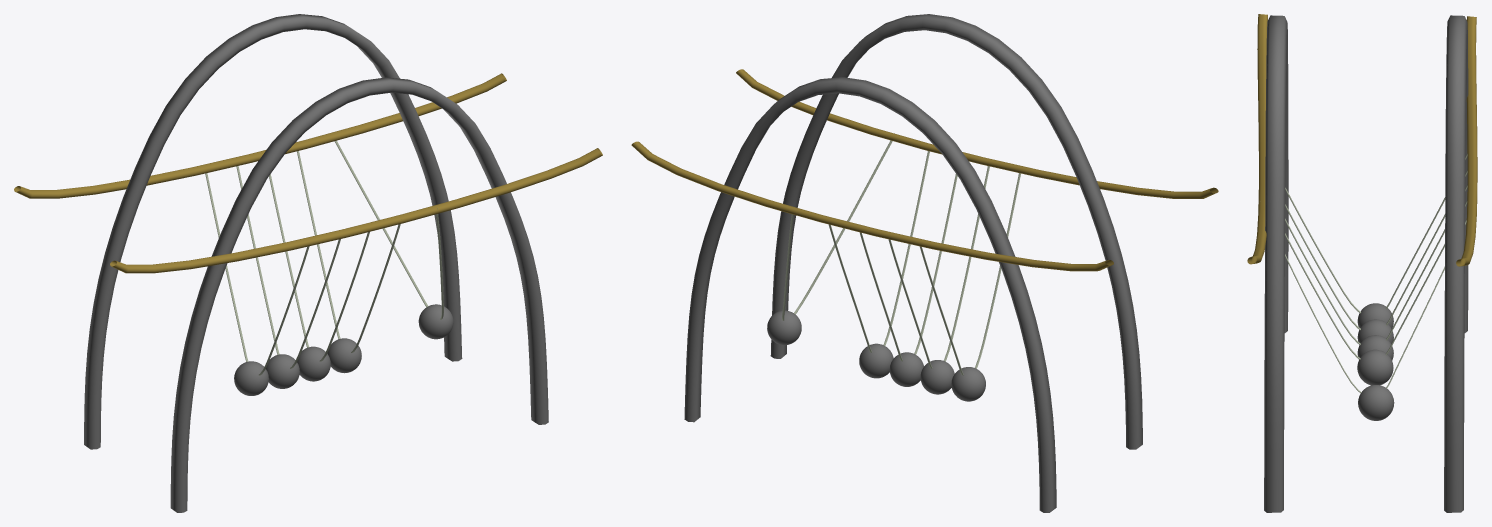
The picture shows the model from 3 angles, left to right: view 1: azimuth 30°, elevation 25°; view 2: azimuth 150°, elevation 25°; view 3: azimuth 270°, elevation 25°; orthographic projection. The views are drawn at different scales.
Visible parts, largest first — view 1: BezierCurve, BezierCurve.001, BezierCurve.002, BezierCurve.003, Sphere, Sphere.004, Sphere.003, Sphere.002, Sphere.001, BezierCurve.007, BezierCurve.004, BezierCurve.006 (+2 smaller); view 2: BezierCurve.001, BezierCurve, BezierCurve.003, BezierCurve.002, Sphere, Sphere.004, Sphere.003, Sphere.001, Sphere.002, BezierCurve.007, BezierCurve.004, BezierCurve.006 (+2 smaller); view 3: BezierCurve, BezierCurve.001, BezierCurve.003, BezierCurve.002, Sphere.003, Sphere.004, BezierCurve.005, BezierCurve.004, BezierCurve.007, Sphere, BezierCurve.006, BezierCurve.008 (+2 smaller).
Part boxes in pixels (x1,y1,x2,y2): BezierCurve: (170, 77, 548, 512); BezierCurve.001: (84, 14, 462, 449); BezierCurve.002: (110, 148, 602, 273); BezierCurve.003: (14, 73, 506, 198); Sphere: (234, 361, 268, 395); Sphere.004: (418, 304, 453, 339); Sphere.003: (327, 338, 361, 373); Sphere.002: (297, 346, 330, 381); Sphere.001: (266, 354, 299, 388); BezierCurve.007: (297, 151, 400, 352); BezierCurve.004: (205, 173, 309, 375); BezierCurve.006: (269, 174, 369, 361); BezierCurve.001: (684, 77, 1056, 512); BezierCurve: (770, 14, 1142, 449); BezierCurve.003: (631, 141, 1113, 271); BezierCurve.002: (736, 69, 1218, 198); Sphere: (951, 367, 985, 401); Sphere.004: (767, 310, 801, 345); Sphere.003: (859, 343, 893, 378); Sphere.001: (920, 360, 954, 394); Sphere.002: (889, 352, 923, 386); BezierCurve.007: (828, 151, 929, 352); BezierCurve.004: (919, 173, 1020, 375); BezierCurve.006: (860, 174, 957, 361); BezierCurve: (1264, 15, 1288, 512); BezierCurve.001: (1444, 15, 1468, 512); BezierCurve.003: (1456, 16, 1477, 266); BezierCurve.002: (1247, 14, 1267, 264); Sphere.003: (1357, 349, 1393, 385); Sphere.004: (1358, 385, 1394, 420); BezierCurve.005: (1285, 170, 1467, 330); BezierCurve.004: (1285, 153, 1467, 313); BezierCurve.007: (1285, 200, 1467, 359); Sphere: (1357, 303, 1393, 328); BezierCurve.006: (1285, 184, 1467, 344); BezierCurve.008: (1285, 219, 1466, 393).
Size of the model in its own units: 9.34 by 6.94 by 3.65.
